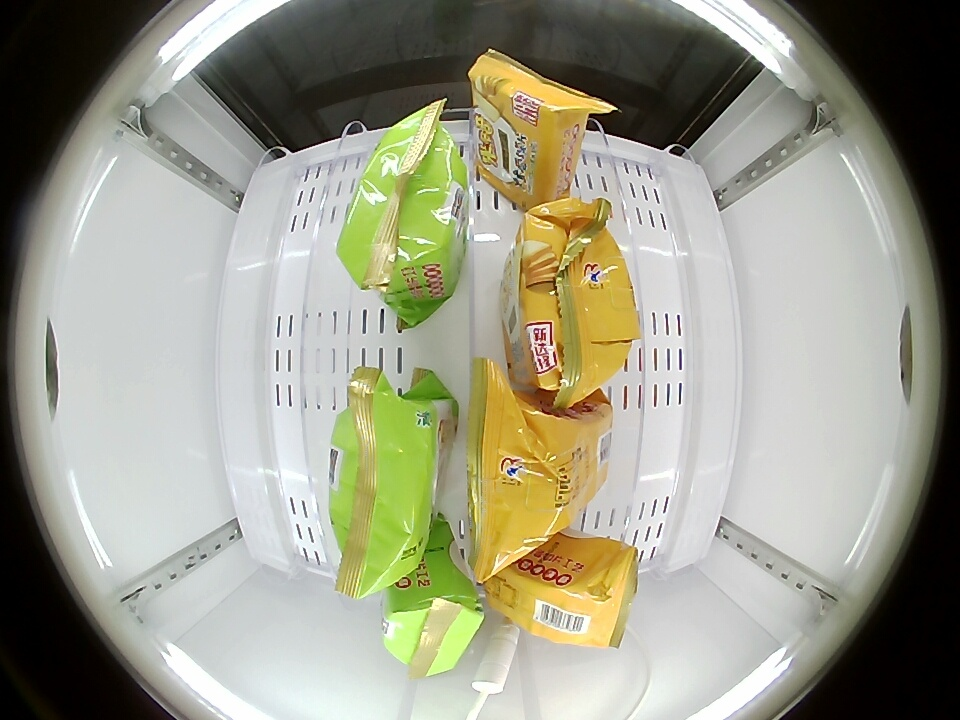kaomo_gali: (504, 209, 642, 400), (468, 388, 611, 569), (470, 57, 588, 210), (488, 536, 638, 649)
kaomo_xiangcon: (338, 109, 469, 310), (329, 391, 450, 592), (383, 539, 485, 676)
